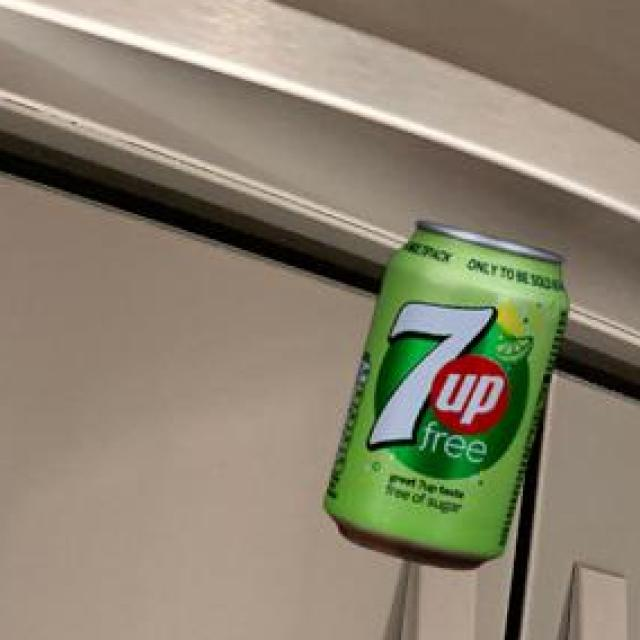logam: (328, 224, 571, 574)
